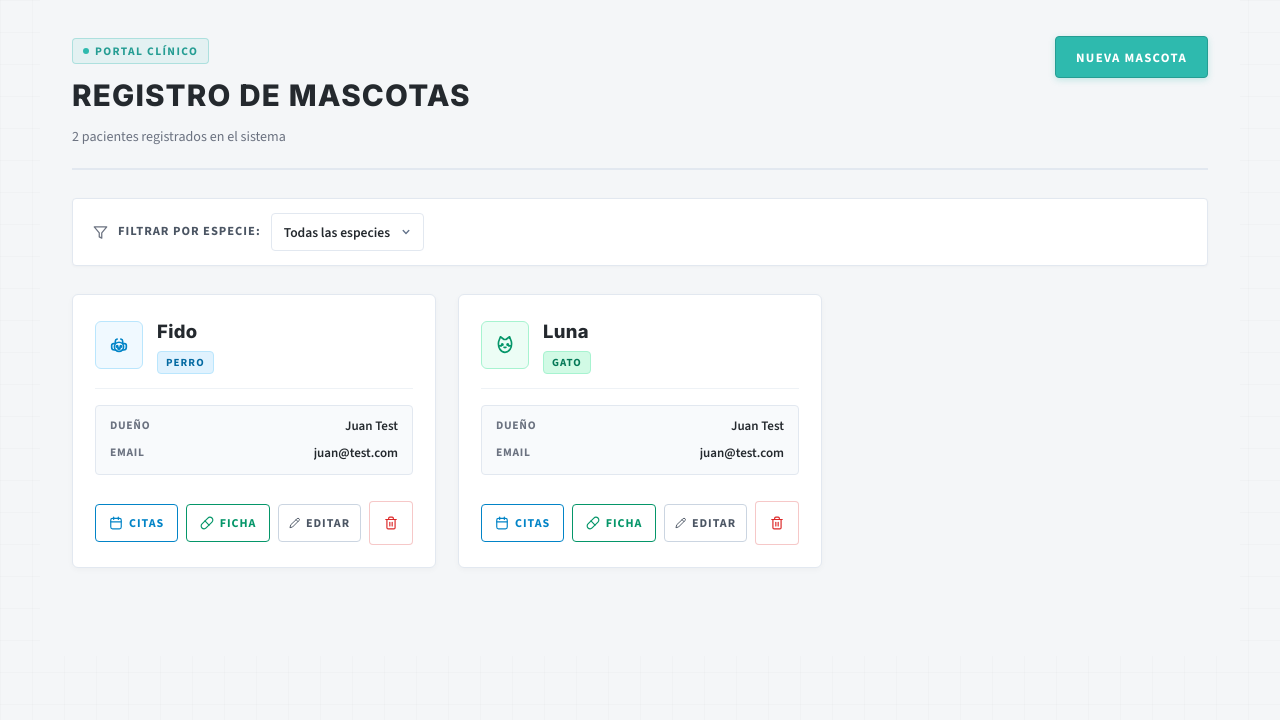
Test: MascotaList — Eliminar mascota (CRUD) › abre el alertdialog de confirmación al hacer click en Eliminar
Hacer click en el botón "Eliminar Fido" (aria-label exacto)
Click the button named "eliminar fido".
click(391, 522)  # box [369, 500, 413, 544]
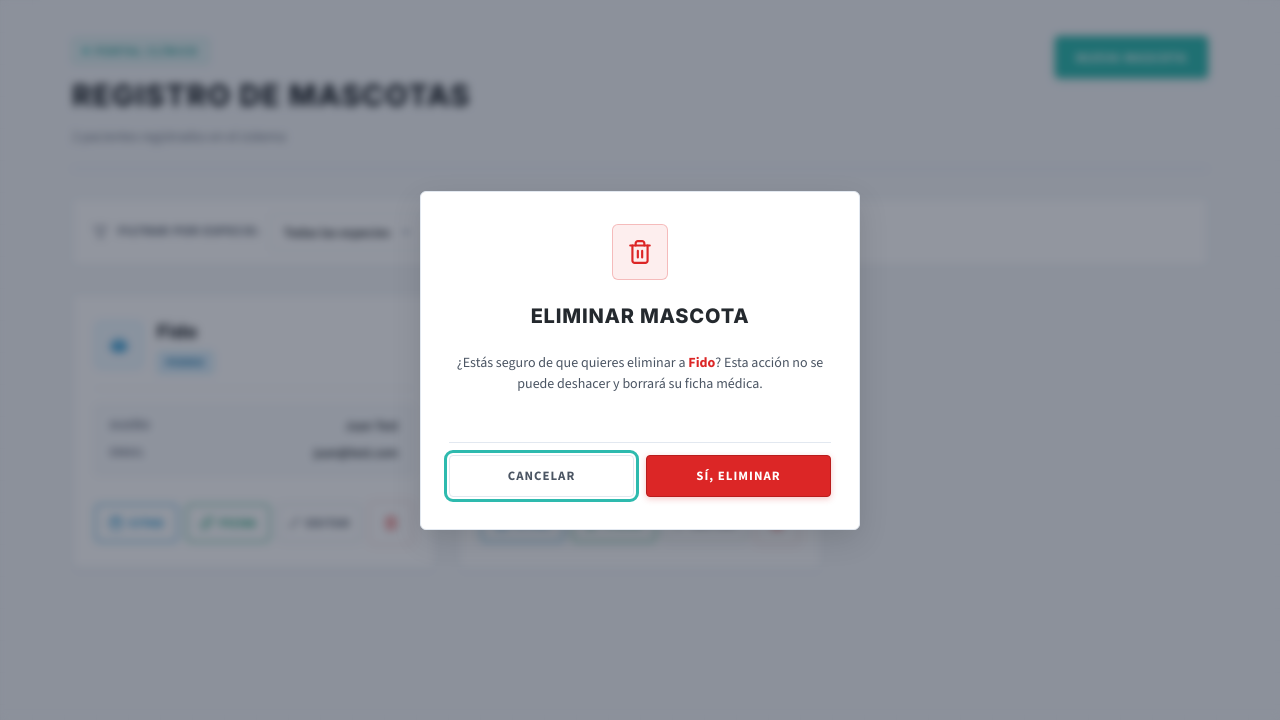
Check: the dialog is shown, box [420, 190, 860, 530]
Check: the button "Cancelar" is shown, box [449, 454, 634, 496]
